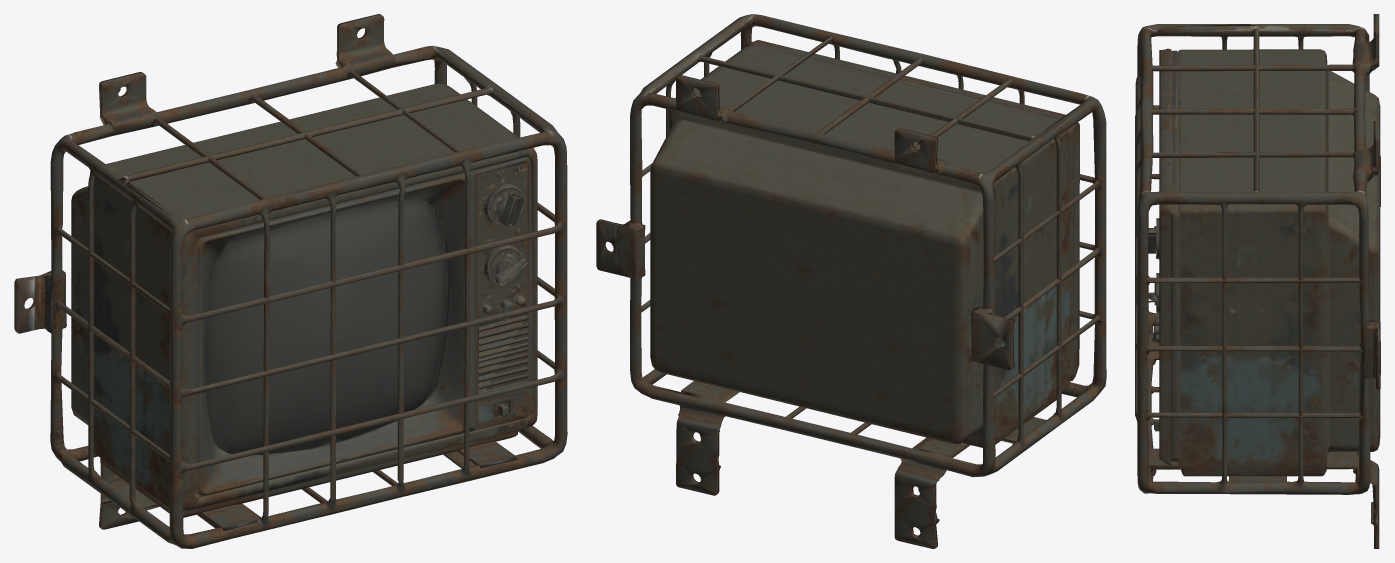
The model's file is silo81_tvscreen.glb.
The picture shows the model from 3 angles, left to right: view 1: azimuth 30°, elevation 25°; view 2: azimuth 150°, elevation 25°; view 3: azimuth 270°, elevation 25°; orthographic projection. The views are drawn at different scales.
Size of the model in its own units: 0.9487 by 0.896 by 0.4863.
1 material, 1 textured.
